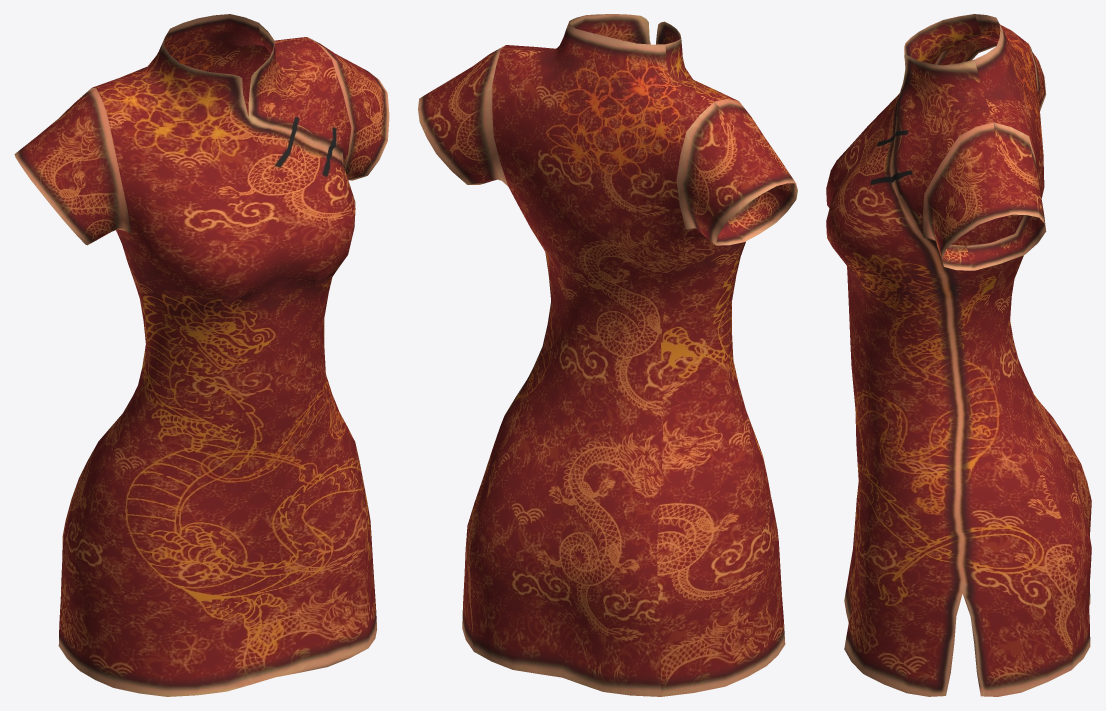
3 views of the same model, side by side, from view 1: azimuth 30°, elevation 25°; view 2: azimuth 150°, elevation 25°; view 3: azimuth 270°, elevation 25° (orthographic). The views are drawn at different scales.
Parts seen in each view (by area): view 1: Circle_7; view 2: Circle_7; view 3: Circle_7.
Boxes of the visible parts, <box> form: Circle_7: <box>14,14,389,696</box>; Circle_7: <box>418,14,797,696</box>; Circle_7: <box>826,14,1091,696</box>.
Size of the model in its own units: 17.7 by 28.84 by 11.55.
Materials: 1 (1 with a texture image).
